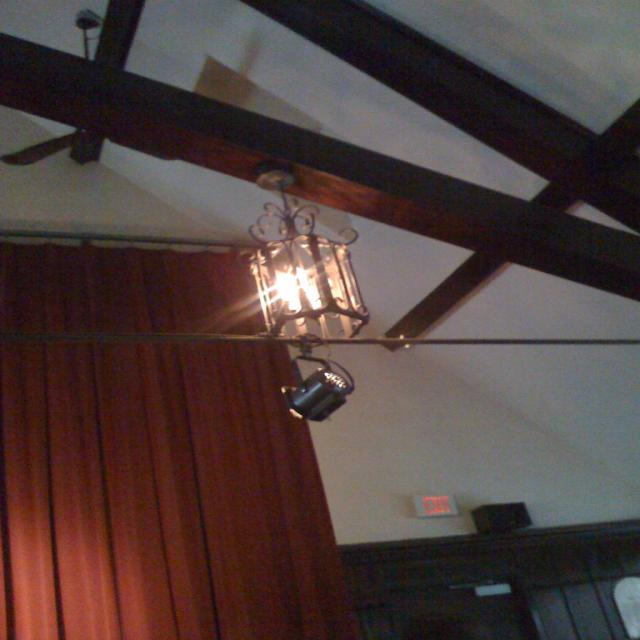Bulb: (2, 13, 193, 168)
